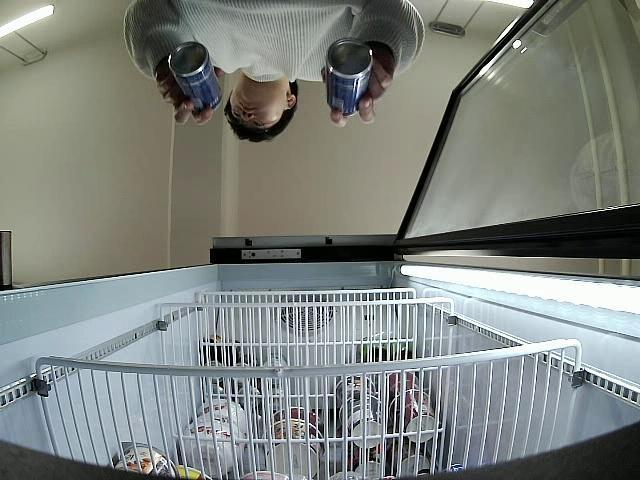16_hot6: (168, 42, 222, 115), (327, 40, 374, 118)
